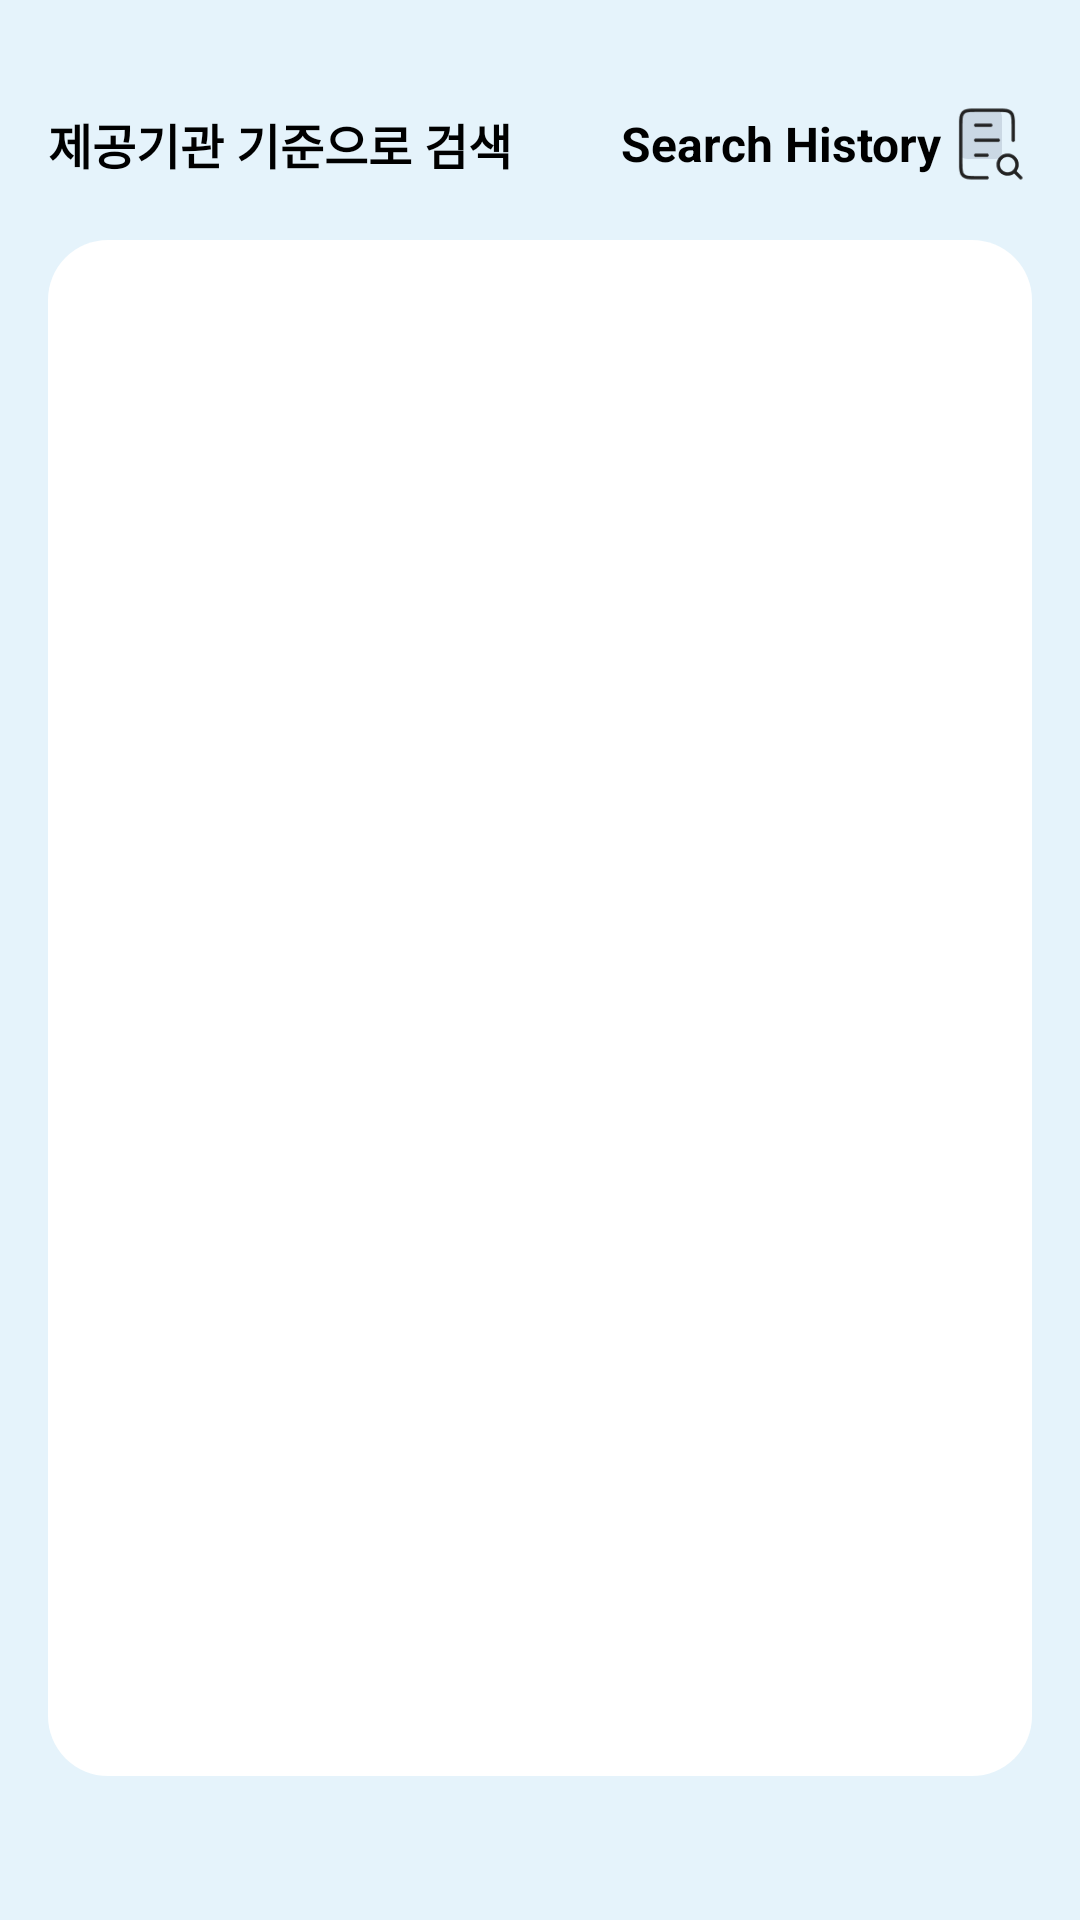

Named icons in this screenshot (1080*1920) and their bounding boxes, (x1=x1, y1=y1, x2=x2, y2=y2):
search list: (x1=959, y1=108, x2=1023, y2=180)
